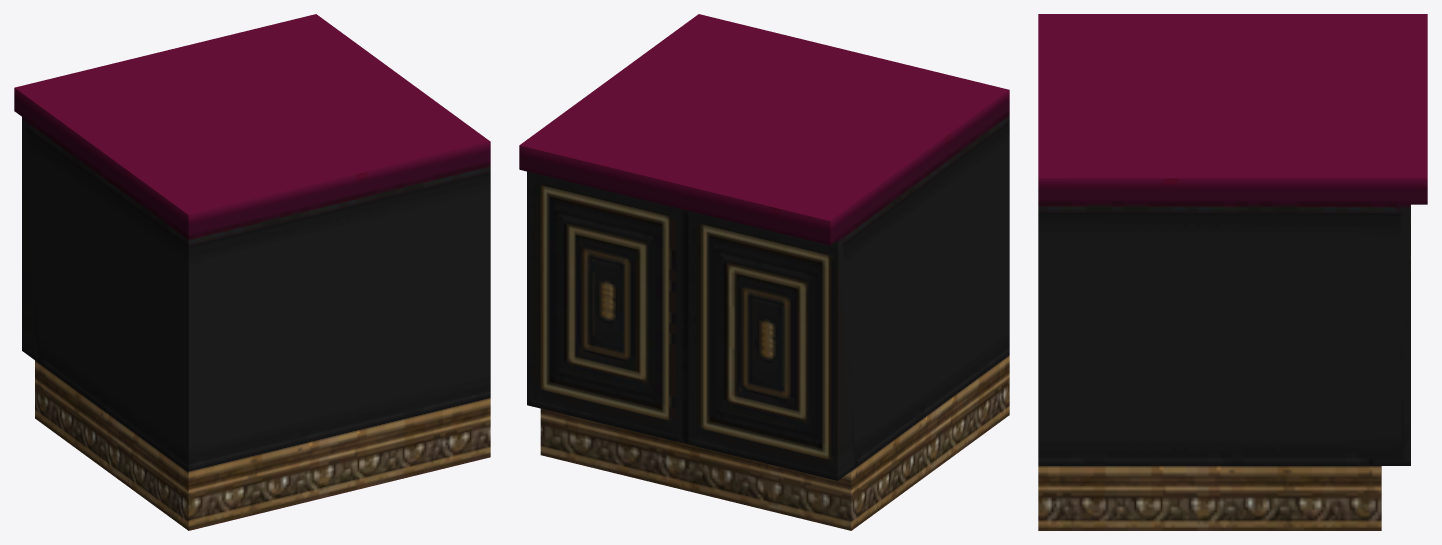
File: furni_0200320_01.FBX
3 renders of one model, left to right at view 1: azimuth 30°, elevation 25°; view 2: azimuth 150°, elevation 25°; view 3: azimuth 270°, elevation 25°, orthographic. The views are drawn at different scales.
Visible parts, largest first — view 1: furni_0200320_01; view 2: furni_0200320_01; view 3: furni_0200320_01.
Part boxes in pixels (x1,y1,x2,y2): furni_0200320_01: (14, 14, 490, 530); furni_0200320_01: (519, 14, 1009, 530); furni_0200320_01: (1038, 14, 1427, 530).
Size of the model in its own units: 80 by 80 by 80.
